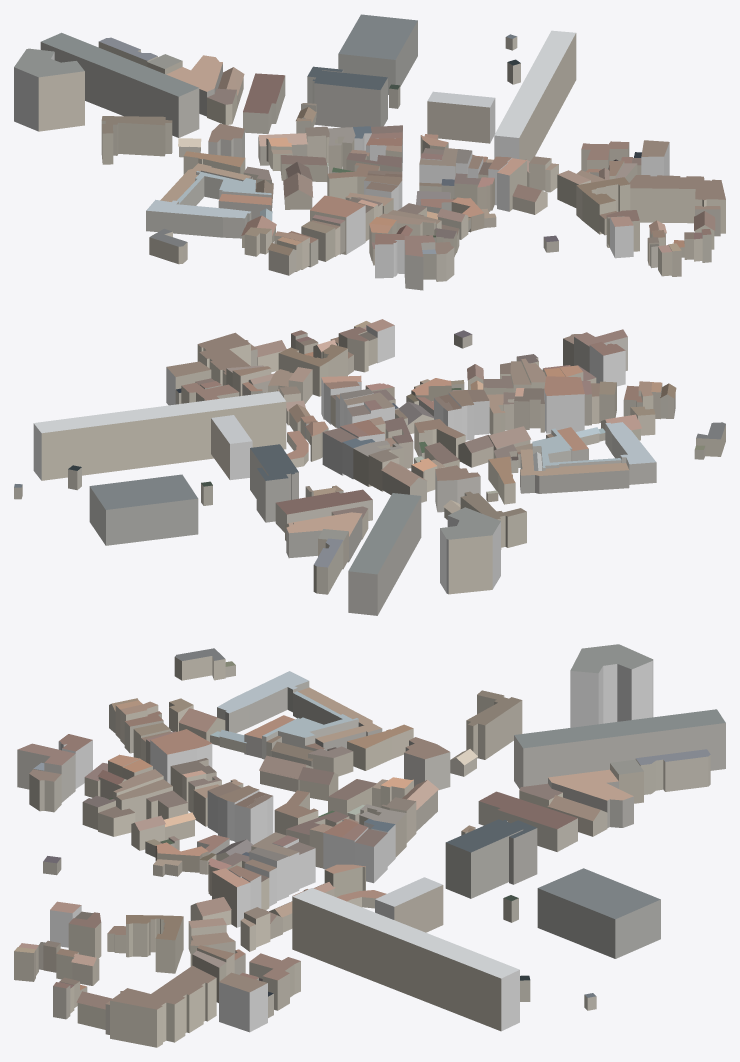
3 views of the same model, one above another, from view 1: azimuth 30°, elevation 25°; view 2: azimuth 150°, elevation 25°; view 3: azimuth 270°, elevation 25° (orthographic). The views are drawn at different scales.
Visible parts, largest first — view 1: tuile; view 2: tuile; view 3: tuile.
Part boxes in pixels (x1=…): tuile: x1=14, y1=14, x2=725, y2=290; tuile: x1=14, y1=319, x2=725, y2=615; tuile: x1=14, y1=644, x2=725, y2=1047.
Bounding box in the file's own units: 267 × 54.13 × 266.
